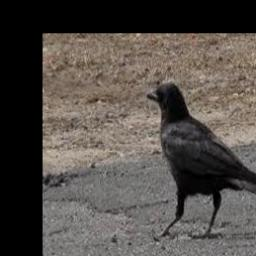Crow: (147, 82, 256, 241)
